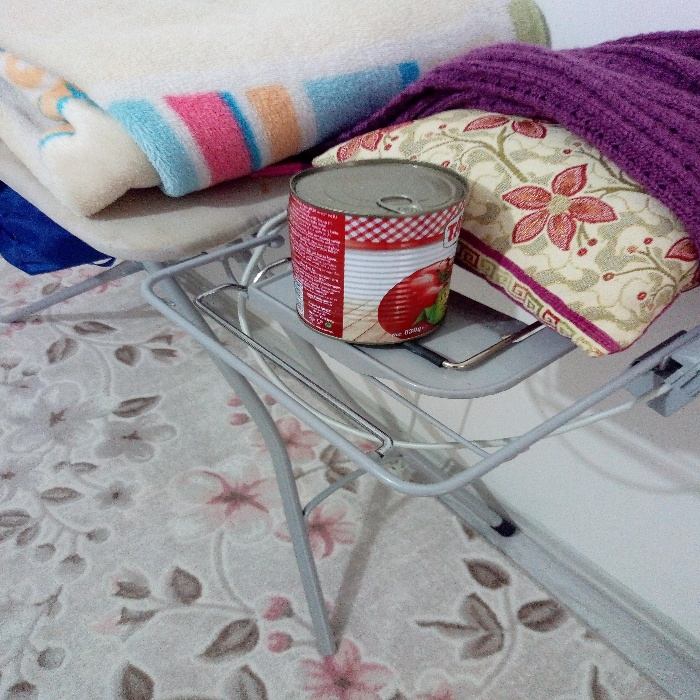salca: (266, 137, 470, 349)
